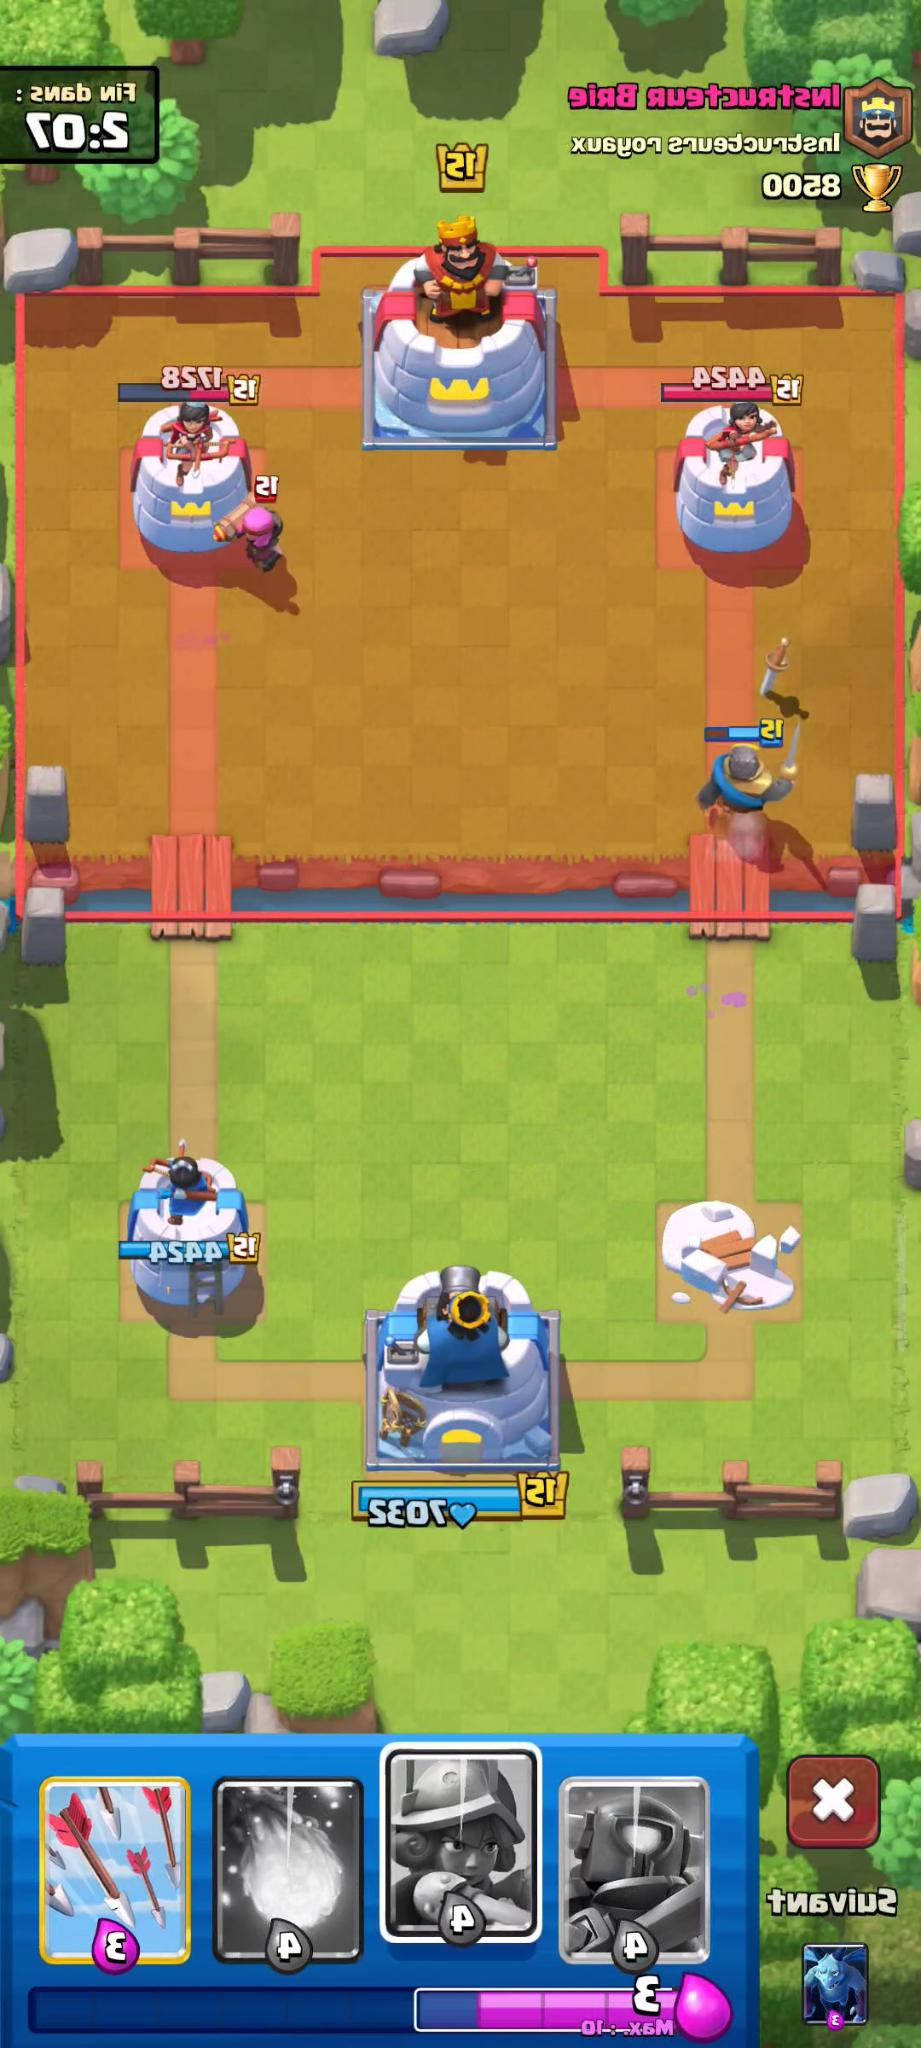chevalier: (677, 708, 819, 859)
